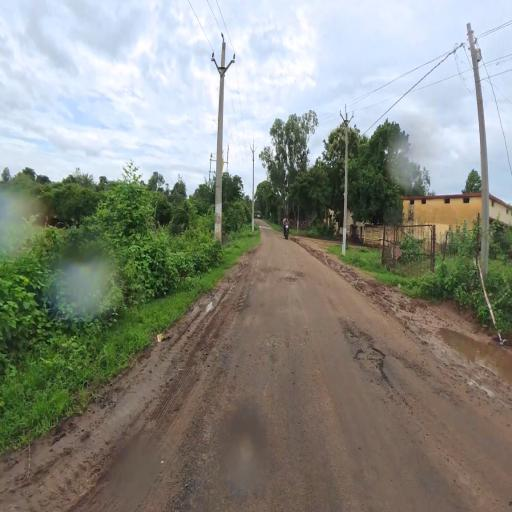pothole: (336, 295, 419, 430)
ravelling: (163, 392, 217, 509)
